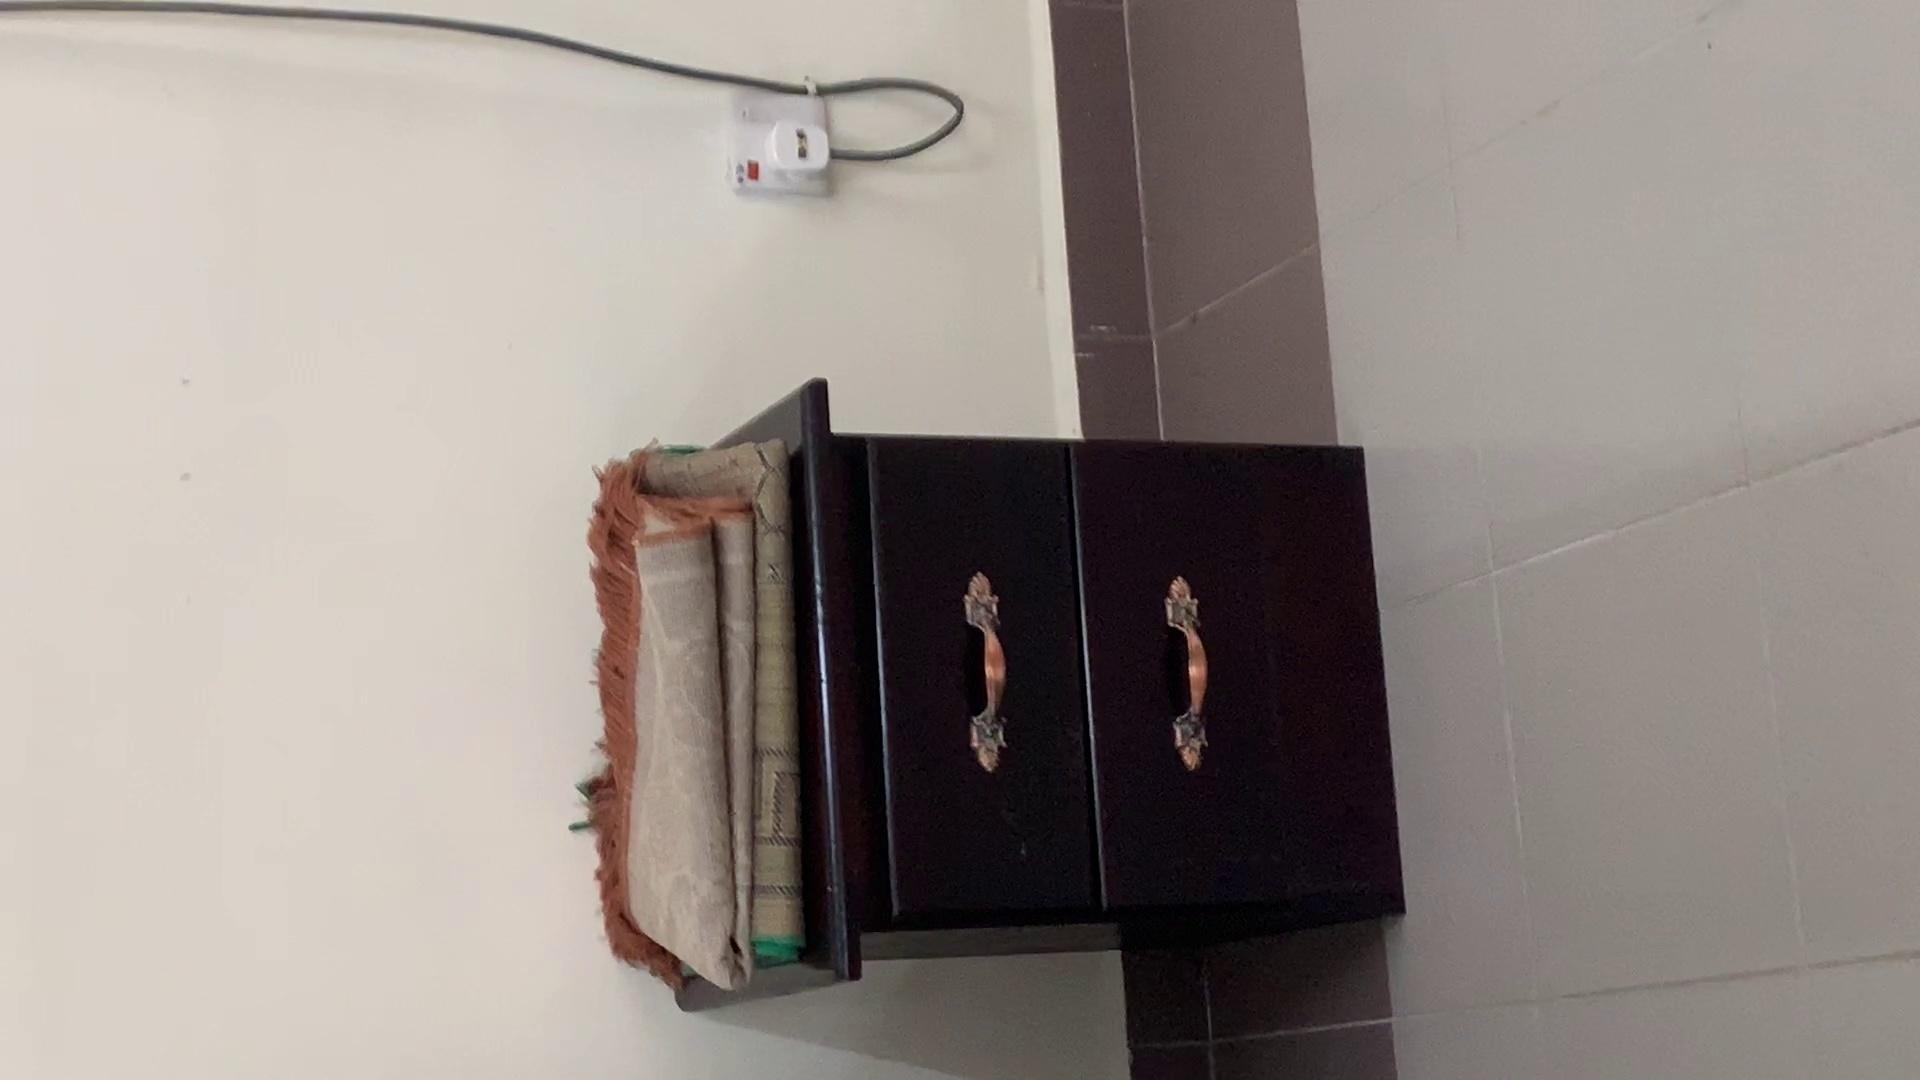cabinet_door: (1092, 442, 1383, 924), (872, 434, 1091, 923)
handle: (1145, 571, 1216, 773), (953, 572, 1019, 779)
